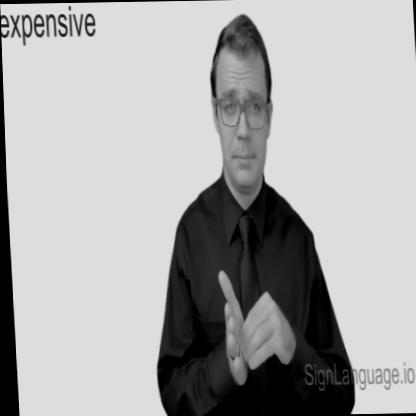Expensive: (204, 257, 295, 398)
